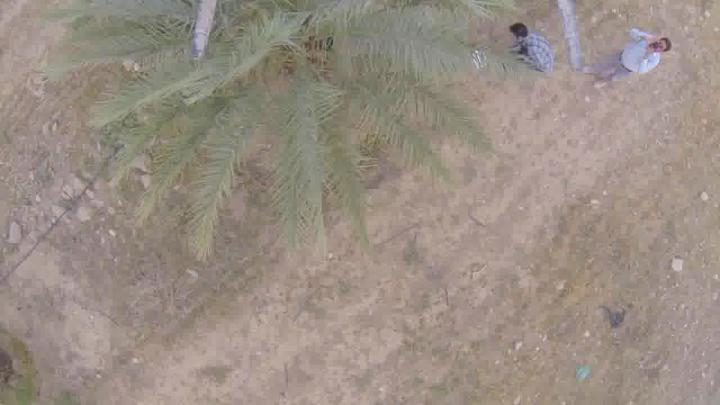Date-Palm-Crown: (154, 1, 398, 156)
